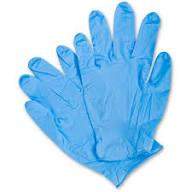Glove: (19, 49, 161, 185), (73, 2, 170, 160)
